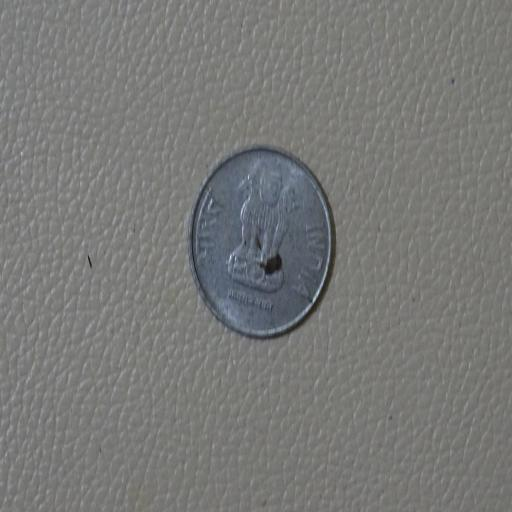rupee2: (185, 146, 336, 339)
